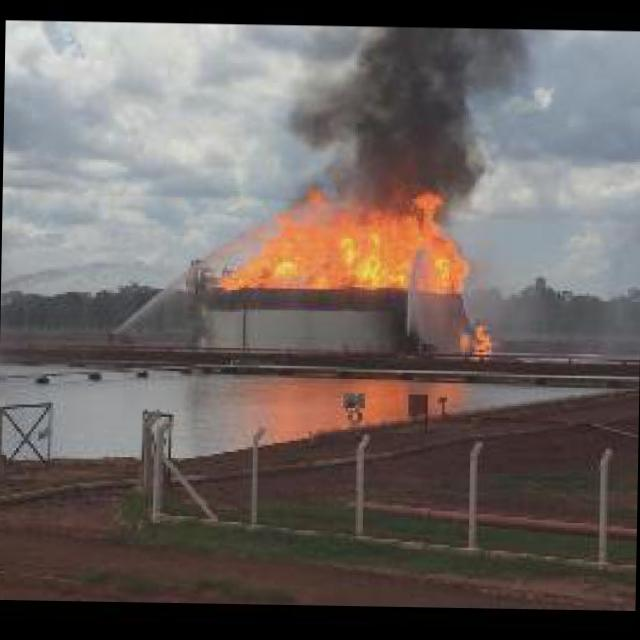fire: (222, 193, 462, 291), (454, 327, 488, 354)
smoke: (276, 24, 530, 208)
